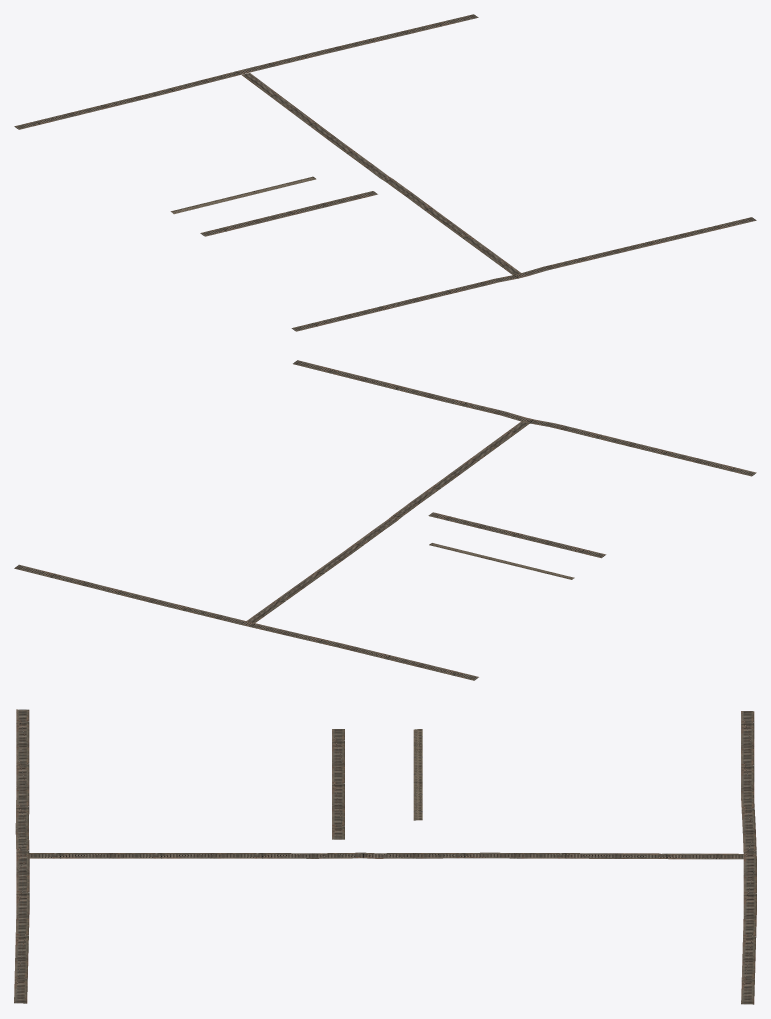
The model's file is Corridor_01_07.fbx.
3 renders of one model, top to bottom at view 1: azimuth 30°, elevation 25°; view 2: azimuth 150°, elevation 25°; view 3: azimuth 270°, elevation 25°, orthographic. The views are drawn at different scales.
Visible parts, largest first — view 1: Corridor_01_07; view 2: Corridor_01_07; view 3: Corridor_01_07.
Part boxes in pixels (left/top/right/bottom): Corridor_01_07: left=14, top=14, right=756, bottom=331; Corridor_01_07: left=14, top=360, right=756, bottom=680; Corridor_01_07: left=14, top=709, right=756, bottom=1004.
Size of the model in its own units: 3479 by 13.18 by 3724.
